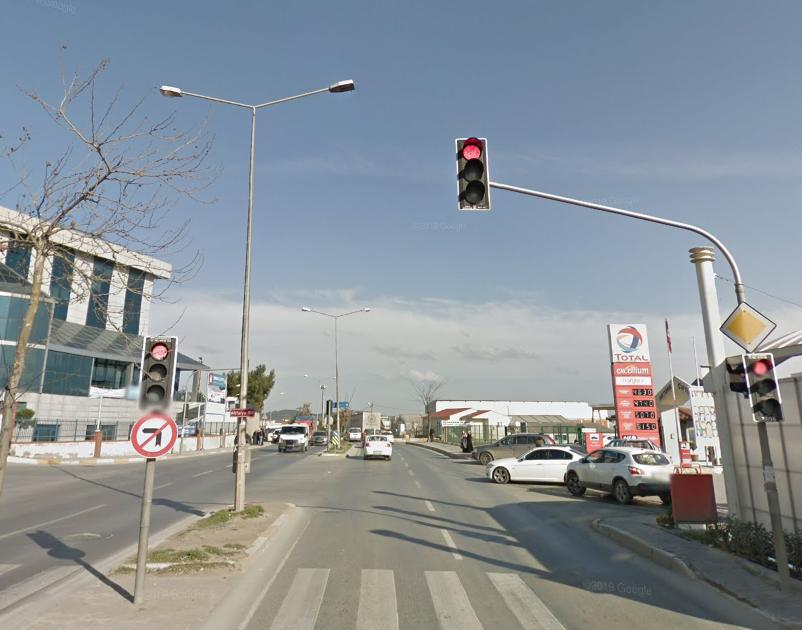redlight: (145, 337, 173, 402), (461, 141, 489, 202), (752, 357, 780, 417)
